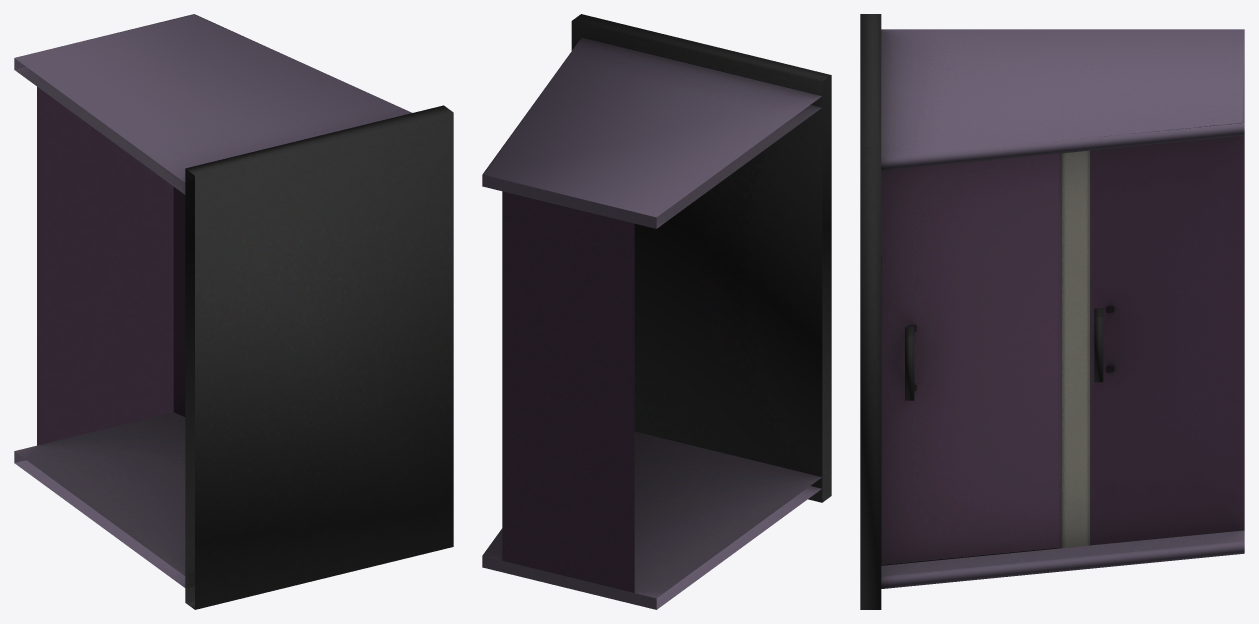
The model's file is nt_bedside_drawer_purple_LOD2.obj.
3 views of the same model, side by side, from view 1: azimuth 30°, elevation 25°; view 2: azimuth 150°, elevation 25°; view 3: azimuth 270°, elevation 25° (orthographic). The views are drawn at different scales.
Visible parts, largest first — view 1: mtl_nt_bedside_drawer_purple; view 2: mtl_nt_bedside_drawer_purple; view 3: mtl_nt_bedside_drawer_purple.
Part boxes in pixels (left/top/right/bottom): mtl_nt_bedside_drawer_purple: left=14, top=14, right=453, bottom=609; mtl_nt_bedside_drawer_purple: left=482, top=14, right=831, bottom=609; mtl_nt_bedside_drawer_purple: left=860, top=14, right=1244, bottom=609.
Size of the model in its own units: 57.69 by 92.56 by 69.85.
